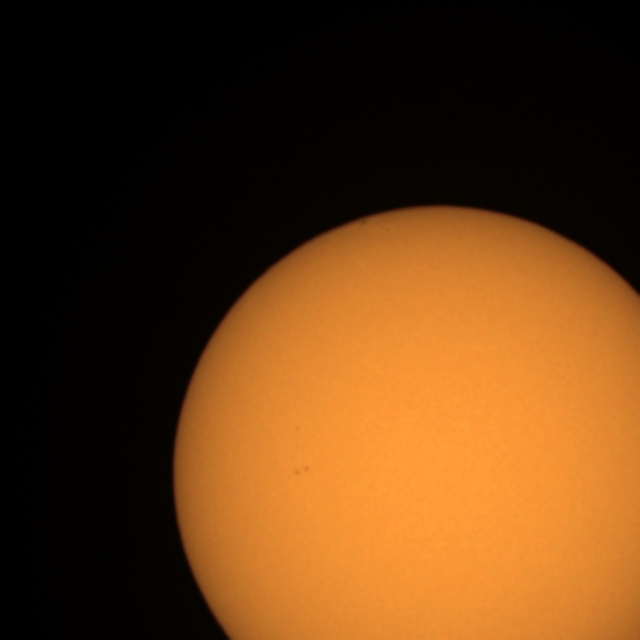sunspot: (291, 464, 312, 478)
